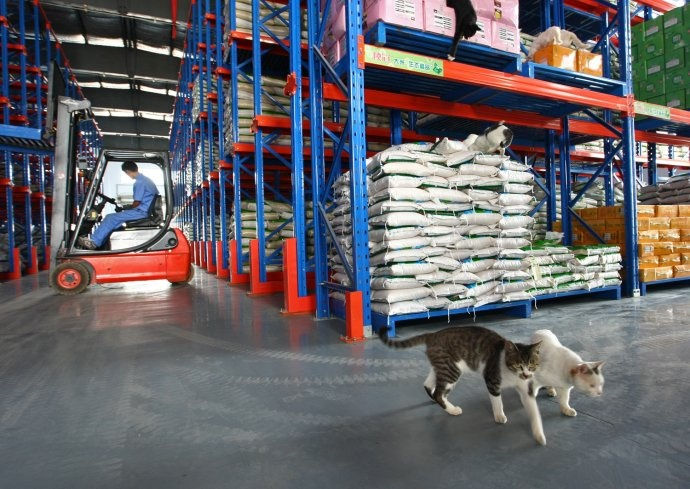cat: (376, 325, 543, 425), (531, 329, 605, 419)
